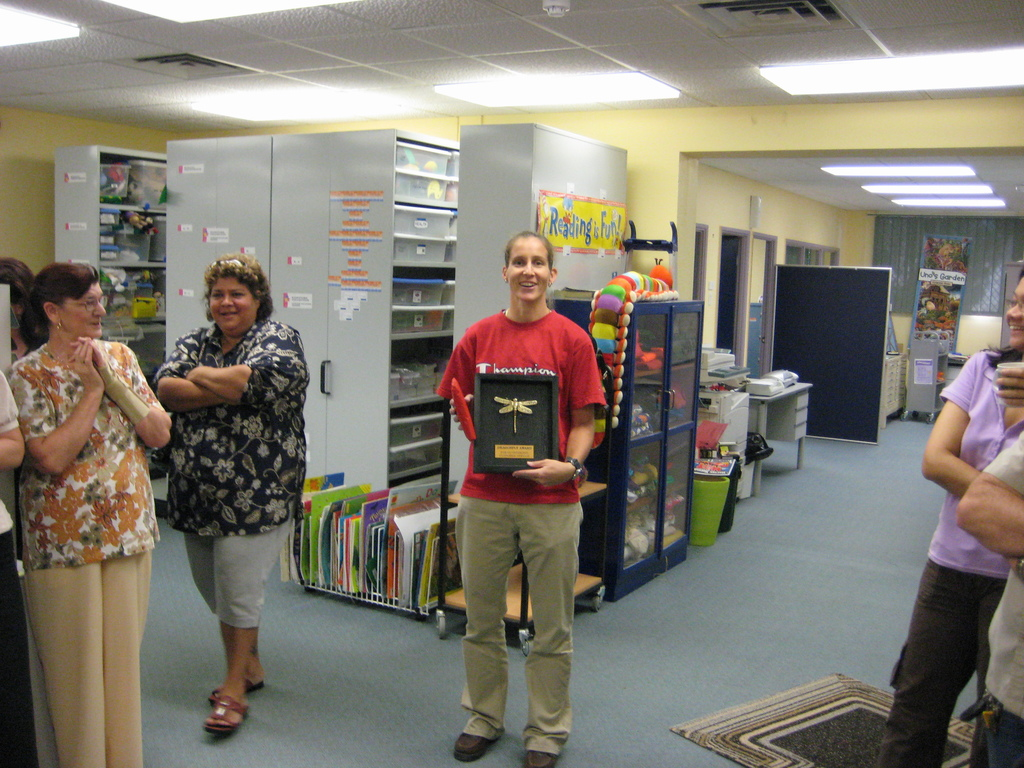Human-face: (506, 236, 549, 301), (210, 276, 256, 332), (61, 285, 108, 338), (1007, 276, 1023, 349)
